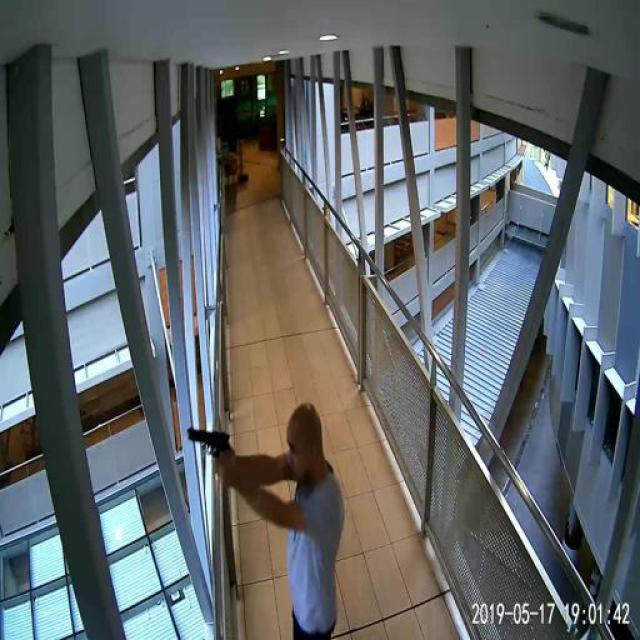weapon: (186, 426, 234, 476)
